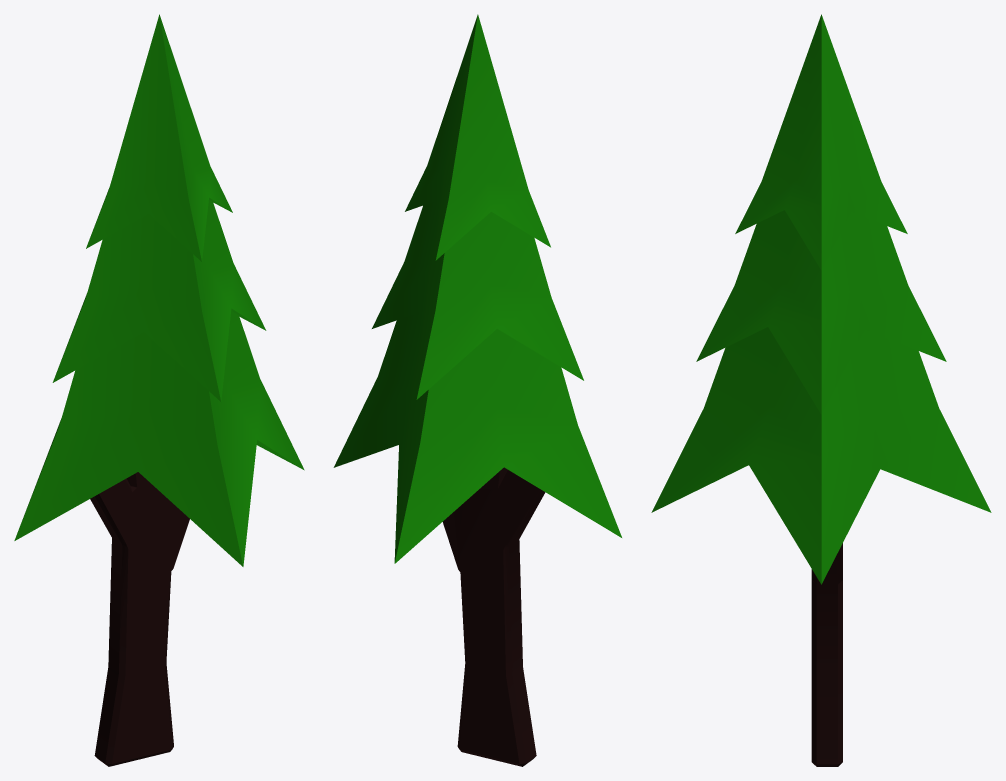
File: tree3.FBX
The picture shows the model from 3 angles, left to right: view 1: azimuth 30°, elevation 25°; view 2: azimuth 150°, elevation 25°; view 3: azimuth 270°, elevation 25°; orthographic projection.
Visible parts, largest first — view 1: Tree3; view 2: Tree3; view 3: Tree3.
Part boxes in pixels (bbox=[...]): Tree3: bbox=[14, 14, 304, 766]; Tree3: bbox=[333, 14, 621, 766]; Tree3: bbox=[651, 14, 991, 766].
Bounding box in the file's own units: 82.04 × 199 × 82.04.
